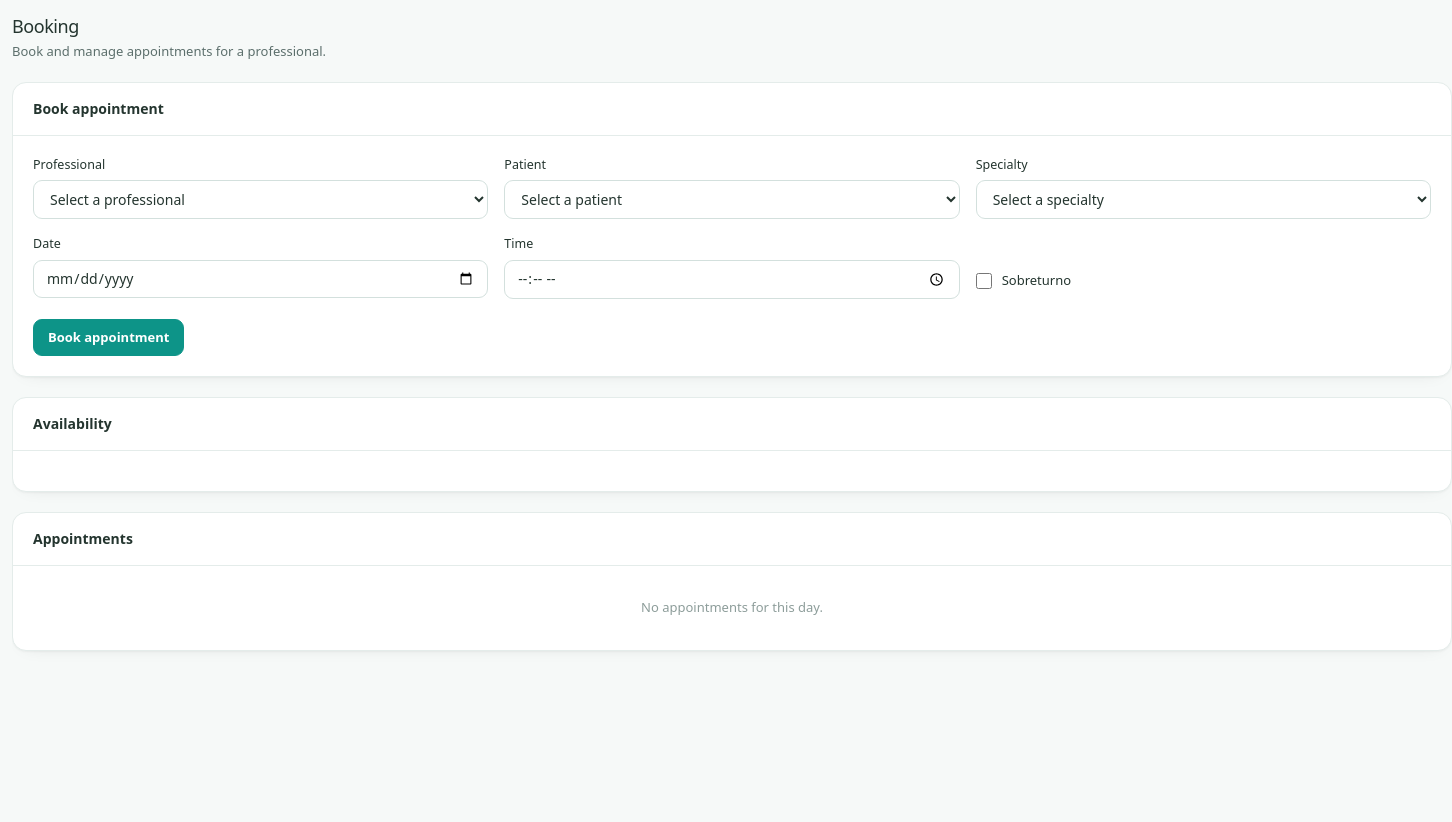
Test case: BookingPage › loads professionals and availability windows for the chosen professional and day
Select "Laura Gómez" in the dropdown labelled "Professional" at [261, 200], box [33,180,488,219]
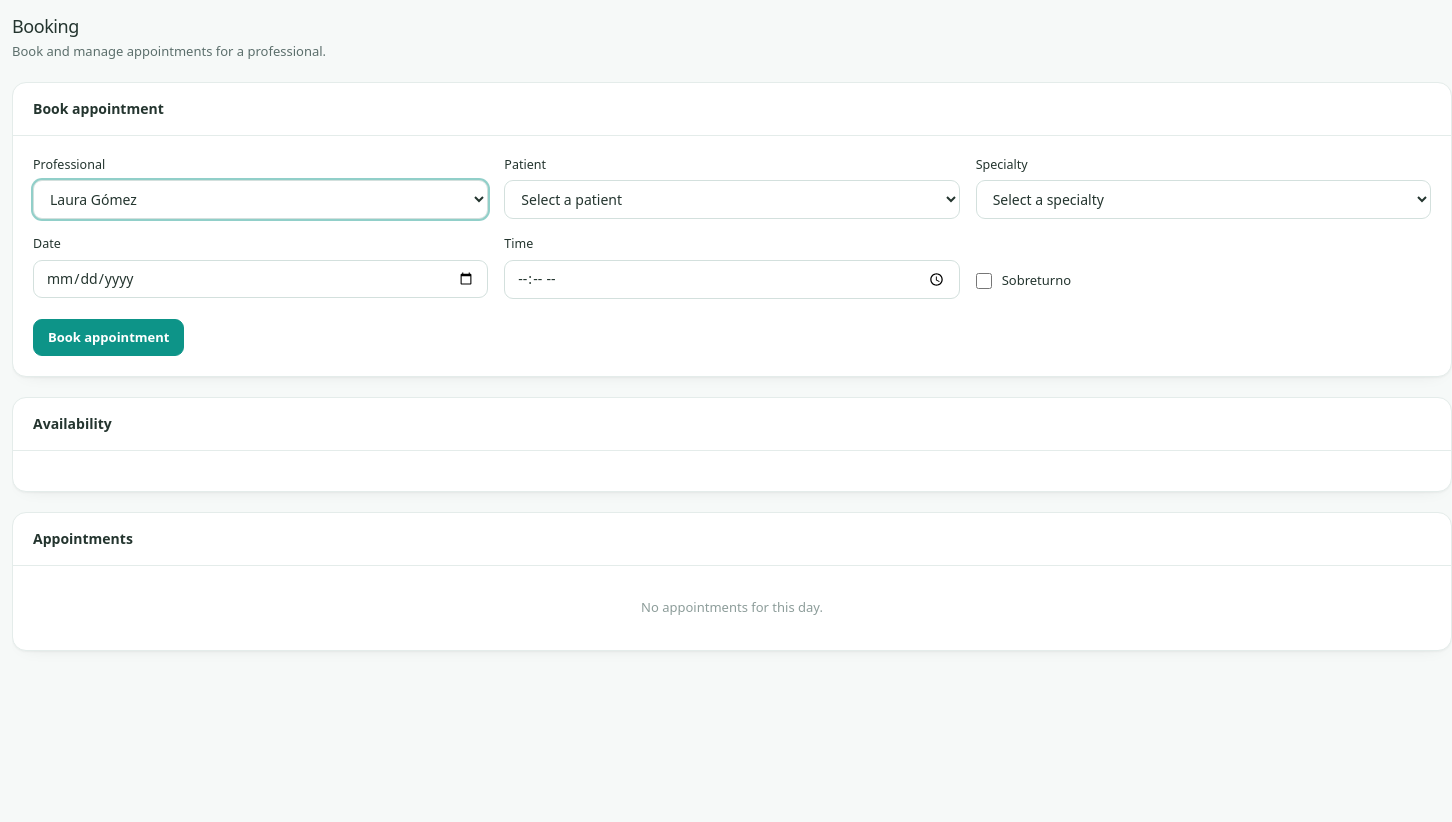
Type "2026-12-15" into the date field labelled "Date" at [261, 279], box [33,260,488,298]
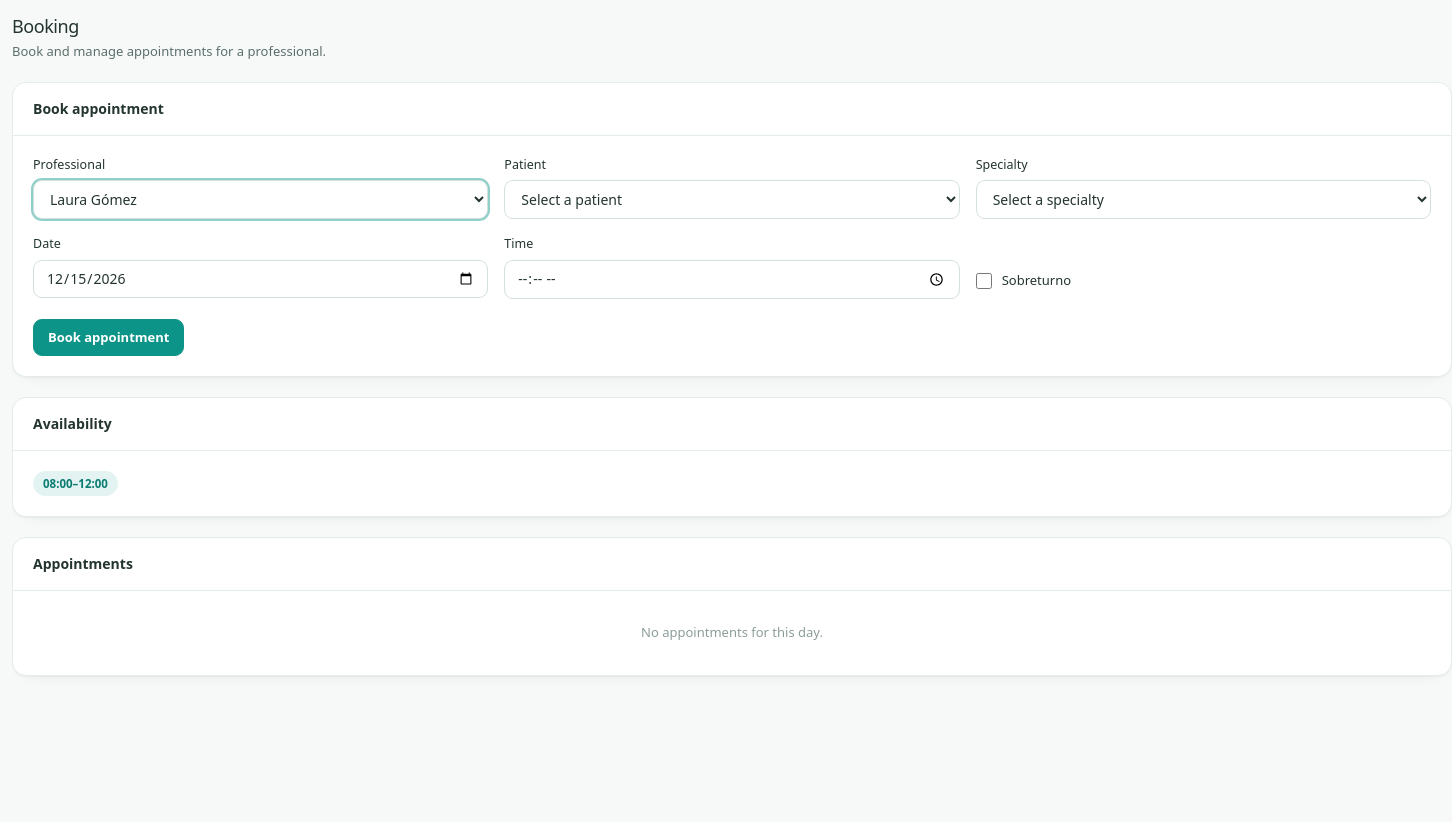
Now the text "08:00–12:00" is shown, box [33,471,118,496]
